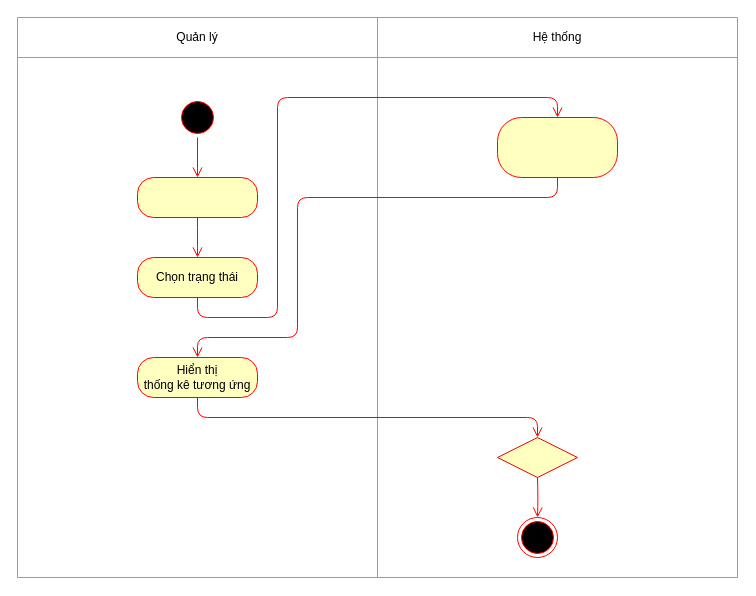
Some shapes in this 756 by 596 pixel diagram are drawn without their labels. Here are the shapes that lost their labels. From the top down, the centre of each, then its label:
At point 557,147: "Tìm kiếm các đơn hàng phù hợp".
At point 197,197: "Chọn khoảng thời gian".
